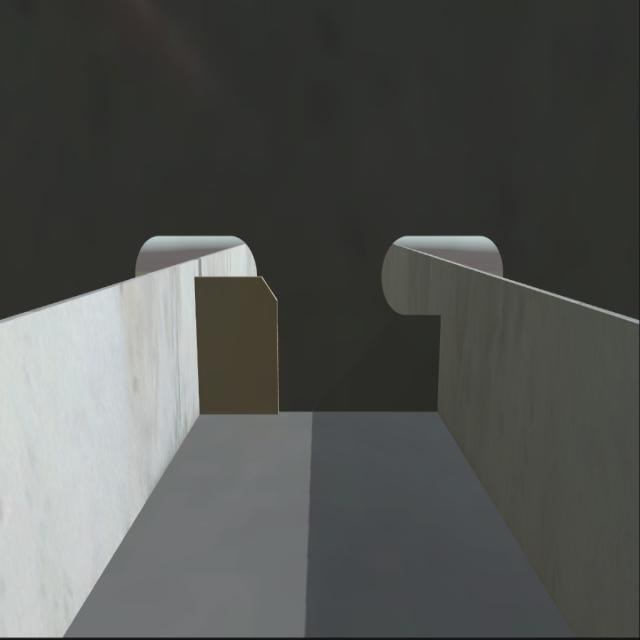fillet_yong_jeop_jang: (188, 405, 444, 423)
longi_yong_jeop_jang: (192, 270, 210, 427), (428, 312, 448, 422)
plate_CP03: (195, 272, 284, 414)
